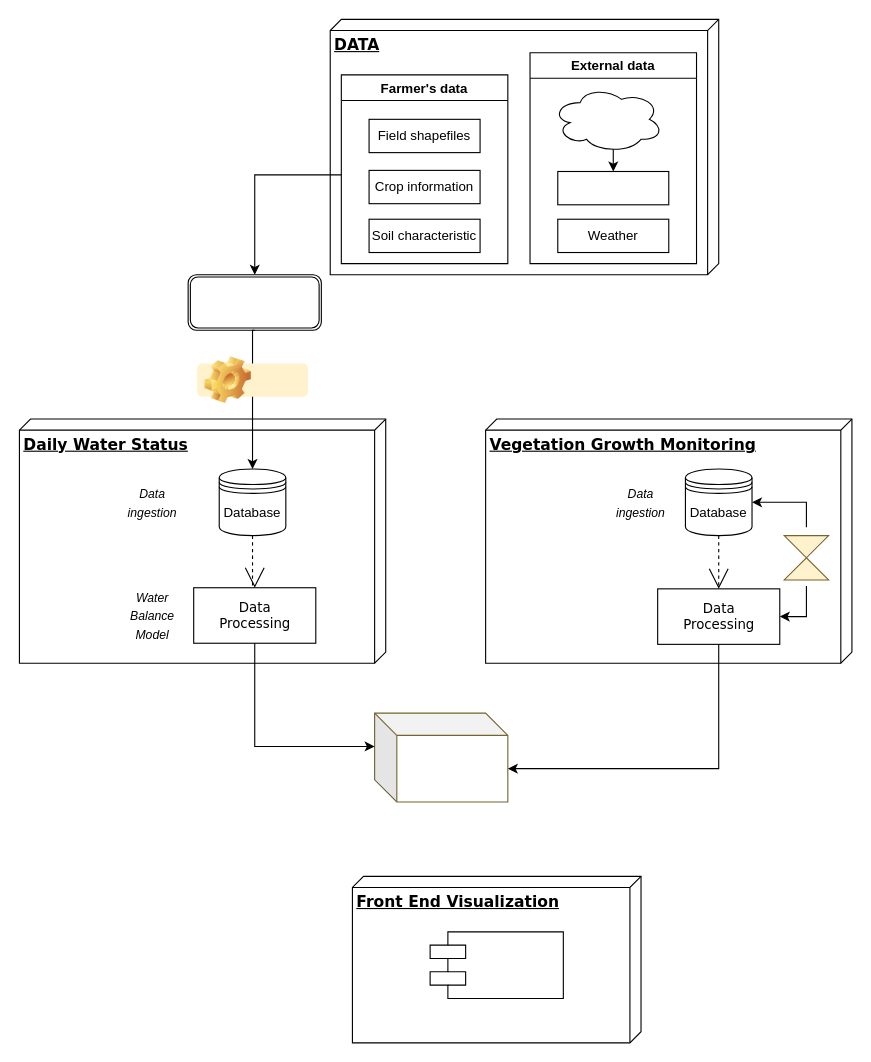
Some shapes in this 871 by 1062 pixel diagram are drawn without their labels. The shapes that lost their labels are listed below. From the top down, each one's centre as x and y in pixels, then its label:
At point (607, 119): "Google back end".
At point (613, 187): "Sentinel-2".
At point (254, 302): "Web Interface".
At point (251, 379): "API".
At point (806, 557): "Scheduler".
At point (441, 757): "Computed Results".
At point (496, 964): "Module".
